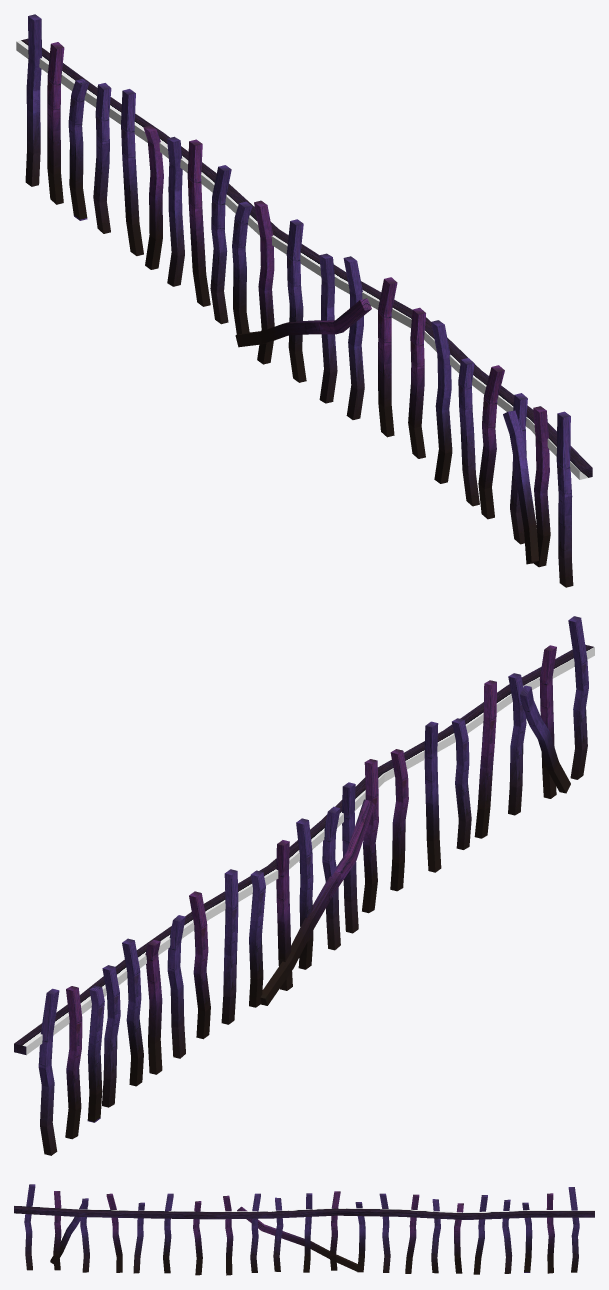
The model's file is fencelong.gltf.
3 views of the same model, one above another, from view 1: azimuth 30°, elevation 25°; view 2: azimuth 150°, elevation 25°; view 3: azimuth 270°, elevation 25° (orthographic). The views are drawn at different scales.
Visible parts, largest first — view 1: Long_Pole, pCube40, pCube41, pCube22, pCube21, pCube27, pCube23, pCube24, pCube36, pCube28, pCube42, pCube32 (+13 smaller); view 2: Long_Pole, pCube35, pCube41, pCube40, pCube28, pCube24, pCube23, pCube27, pCube21, pCube22, pCube32, pCube39 (+13 smaller); view 3: Long_Pole, pCube35, pCube40, pCube41, pCube27, pCube28, pCube26, pCube21, pCube25, pCube42, pCube22, pCube24 (+13 smaller).
Part boxes in pixels (left/top/right/bottom): Long_Pole: left=16, top=38, right=592, bottom=479; pCube40: left=556, top=411, right=573, bottom=587; pCube41: left=25, top=14, right=41, bottom=186; pCube22: left=187, top=139, right=210, bottom=306; pCube21: left=121, top=89, right=143, bottom=255; pCube27: left=431, top=320, right=452, bottom=483; pCube23: left=47, top=42, right=64, bottom=204; pCube24: left=210, top=165, right=231, bottom=324; pCube36: left=378, top=277, right=397, bottom=437; pCube28: left=478, top=365, right=504, bottom=519; pCube42: left=533, top=406, right=550, bottom=567; pCube32: left=408, top=307, right=425, bottom=458; Long_Pole: left=14, top=645, right=594, bottom=1055; pCube35: left=260, top=799, right=374, bottom=1005; pCube41: left=38, top=988, right=59, bottom=1155; pCube40: left=568, top=616, right=588, bottom=779; pCube28: left=474, top=680, right=496, bottom=838; pCube24: left=221, top=869, right=238, bottom=1024; pCube23: left=65, top=986, right=82, bottom=1139; pCube27: left=424, top=721, right=441, bottom=872; pCube21: left=122, top=938, right=143, bottom=1086; pCube22: left=189, top=891, right=210, bottom=1039; pCube32: left=390, top=749, right=408, bottom=891; pCube39: left=102, top=965, right=120, bottom=1107; Long_Pole: left=14, top=1205, right=594, bottom=1219; pCube35: left=237, top=1206, right=357, bottom=1271; pCube40: left=24, top=1184, right=35, bottom=1270; pCube41: left=568, top=1187, right=579, bottom=1272; pCube27: left=163, top=1193, right=173, bottom=1273; pCube28: left=106, top=1193, right=122, bottom=1272; pCube26: left=250, top=1193, right=260, bottom=1272; pCube21: left=473, top=1195, right=487, bottom=1274; pCube25: left=329, top=1191, right=340, bottom=1270; pCube42: left=53, top=1191, right=61, bottom=1270; pCube22: left=405, top=1194, right=419, bottom=1273; pCube24: left=379, top=1193, right=390, bottom=1272.
Size of the model in its own units: 1.12 by 3.45 by 21.43.
5 materials, 5 textured.
